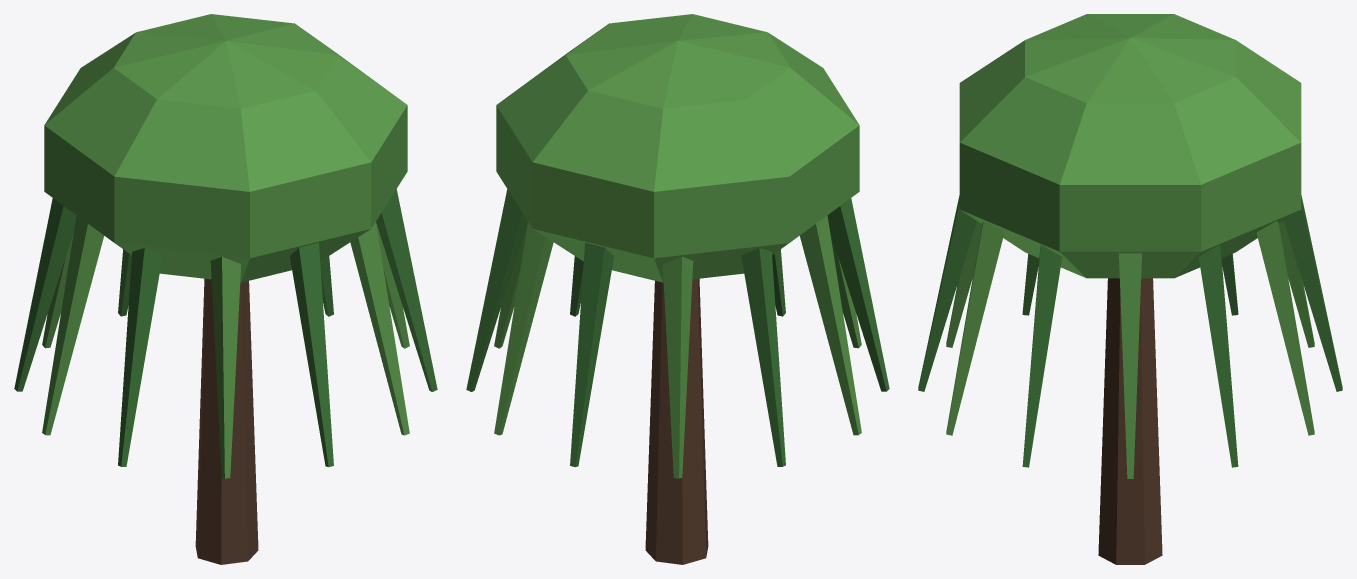
The model's file is tree_willow.glb.
3 renders of one model, left to right at view 1: azimuth 30°, elevation 25°; view 2: azimuth 150°, elevation 25°; view 3: azimuth 270°, elevation 25°, orthographic.
Parts seen in each view (by area): view 1: tree_willow; view 2: tree_willow; view 3: tree_willow.
Boxes of the visible parts, <box> form: tree_willow: <box>14,14,437,564</box>; tree_willow: <box>466,14,889,564</box>; tree_willow: <box>918,14,1342,564</box>.
Size of the model in its own units: 2.84 by 3.8 by 2.84.
